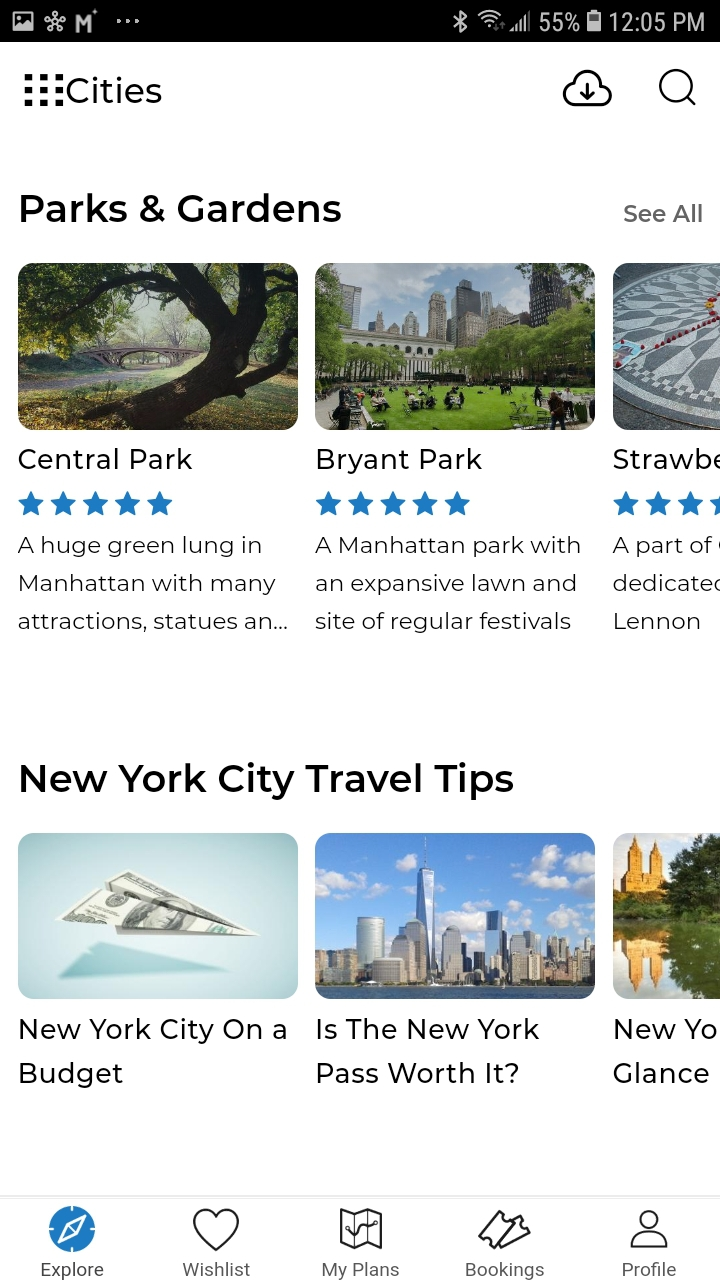Icon: (316, 490, 471, 516), (19, 491, 173, 516), (613, 491, 720, 516), (49, 1205, 96, 1252), (478, 1210, 532, 1250), (193, 1207, 240, 1251), (562, 70, 613, 108), (340, 1207, 383, 1249), (630, 1210, 668, 1249), (658, 69, 696, 107), (25, 74, 65, 108)
Image: (19, 263, 299, 431), (315, 833, 596, 1000), (18, 833, 299, 1000), (315, 264, 595, 431), (613, 833, 720, 1000), (613, 264, 720, 431)
Text: (316, 536, 581, 635), (18, 536, 288, 633), (21, 761, 514, 801), (20, 1017, 287, 1089), (317, 1017, 540, 1084), (612, 535, 720, 630), (21, 193, 342, 224), (613, 1018, 720, 1084), (318, 448, 482, 475), (19, 448, 193, 470), (67, 77, 163, 105), (614, 448, 720, 470), (624, 204, 703, 223), (466, 1261, 545, 1280), (323, 1261, 400, 1280), (42, 1261, 104, 1280), (183, 1261, 251, 1277), (623, 1262, 677, 1277)
UpperTaskBar: (1, 1, 720, 43)
